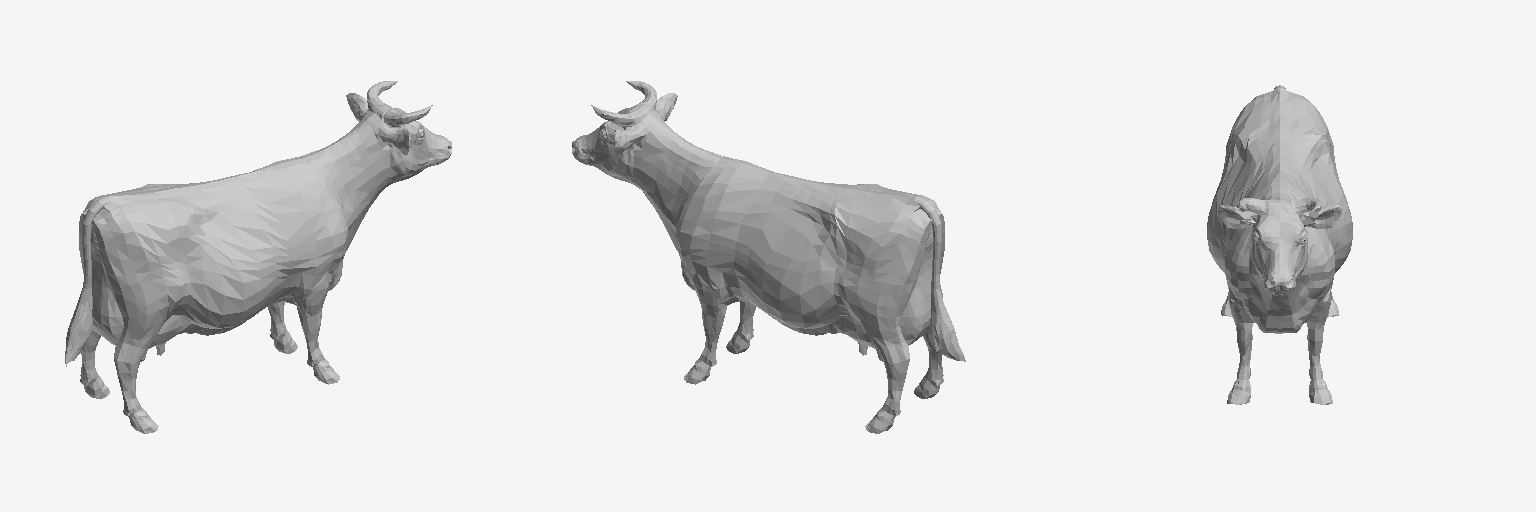
The model's file is cowUV.obj.
3 renders of one model, left to right at view 1: azimuth 30°, elevation 25°; view 2: azimuth 150°, elevation 25°; view 3: azimuth 270°, elevation 25°, orthographic.
Parts seen in each view (by area): view 1: object; view 2: object; view 3: object.
Part boxes in pixels (x1,y1,x2,y2): object: (65,81,451,433); object: (572,81,965,433); object: (1207,85,1352,404).
Bounding box in the file's own units: 182 × 111 × 59.24.